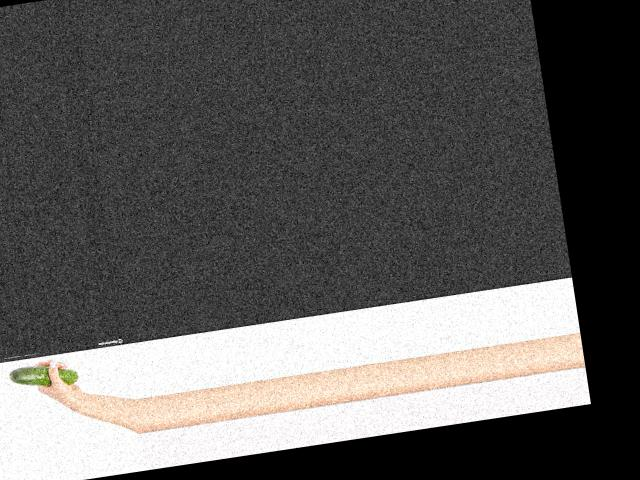cucumber: (7, 359, 78, 392)
